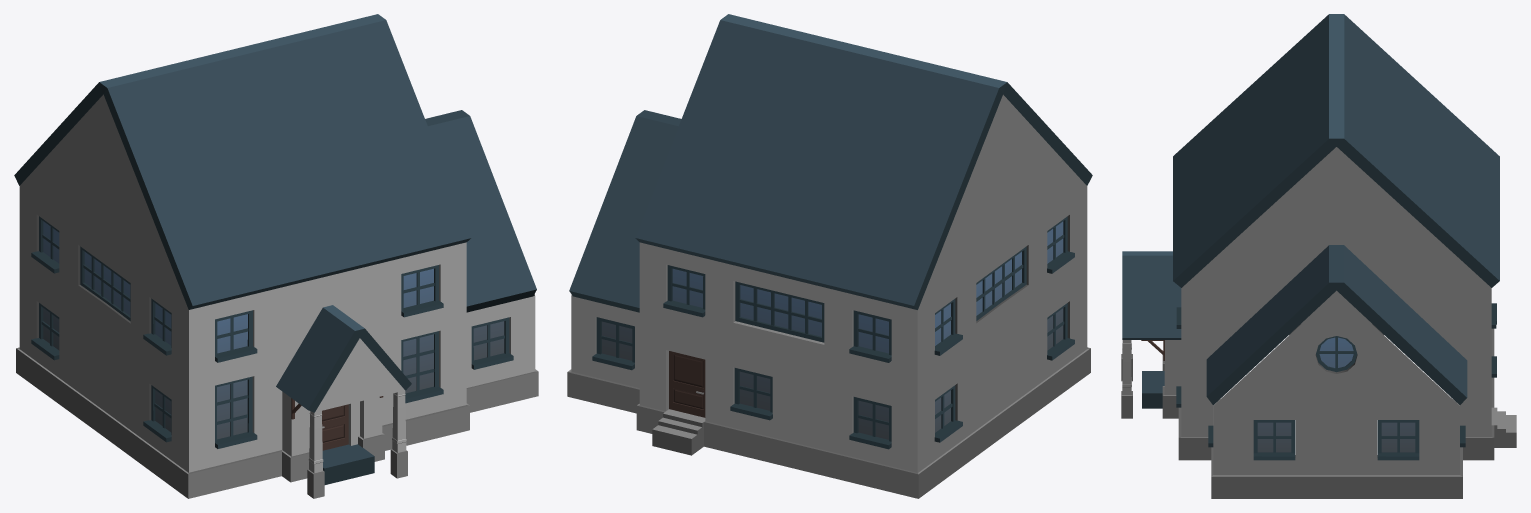
The model's file is buildings-residential-largefamilyhome_v3.glb.
The picture shows the model from 3 angles, left to right: view 1: azimuth 30°, elevation 25°; view 2: azimuth 150°, elevation 25°; view 3: azimuth 270°, elevation 25°; orthographic projection. The views are drawn at different scales.
Parts seen in each view (by area): view 1: LargeFamilyHome_v3_base, LargeFamilyHome_v3_windowRefl; view 2: LargeFamilyHome_v3_base, LargeFamilyHome_v3_windowRefl; view 3: LargeFamilyHome_v3_base, LargeFamilyHome_v3_windowRefl.
Boxes of the visible parts, x1,y1,x2,y2 form: LargeFamilyHome_v3_base: (14,14,538,498); LargeFamilyHome_v3_windowRefl: (43,221,504,439); LargeFamilyHome_v3_base: (567,14,1092,498); LargeFamilyHome_v3_windowRefl: (602,221,1063,439); LargeFamilyHome_v3_base: (1121,14,1516,498); LargeFamilyHome_v3_windowRefl: (1257,337,1415,452).
Bounding box in the file's own units: 14.61 × 13.1 × 14.61.
